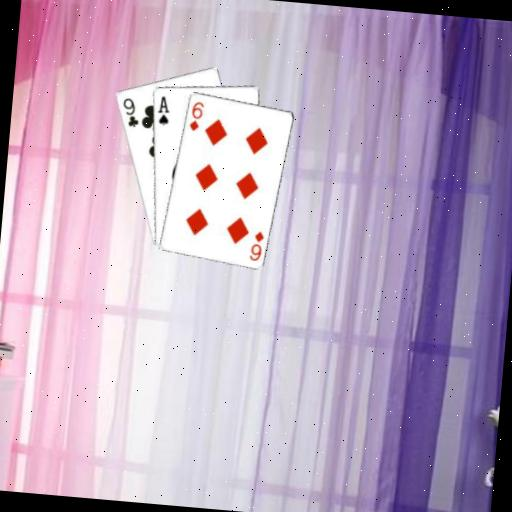6D: (186, 98, 206, 133), (246, 228, 266, 263)
9C: (117, 95, 142, 130)
AS: (154, 93, 172, 128)
